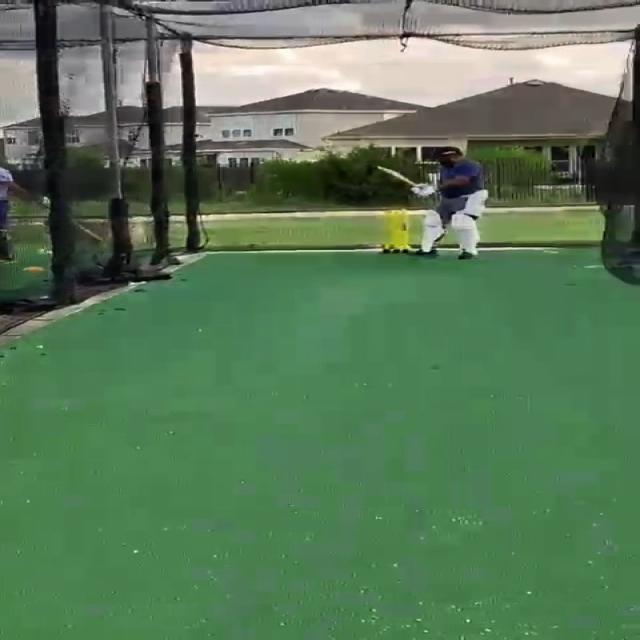batsman: (376, 145, 492, 262)
